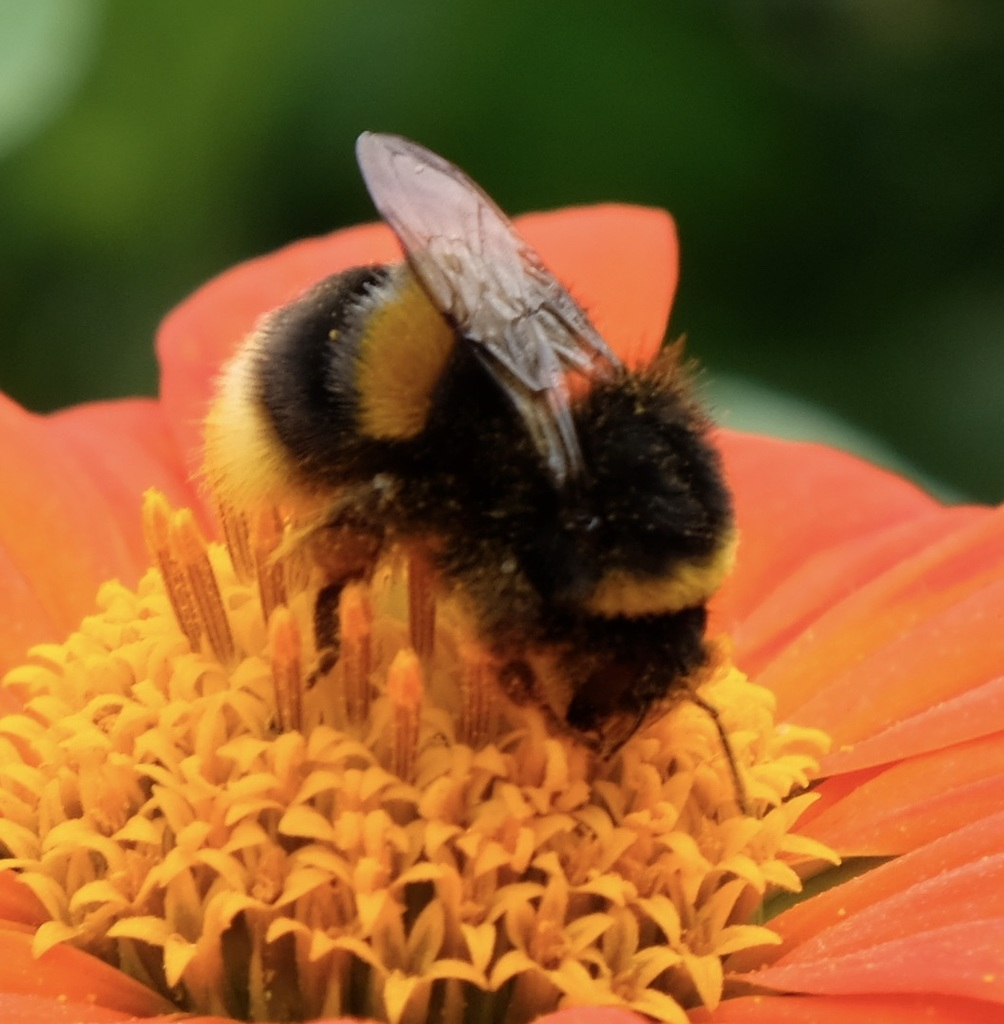bumblebee: (197, 130, 740, 734)
